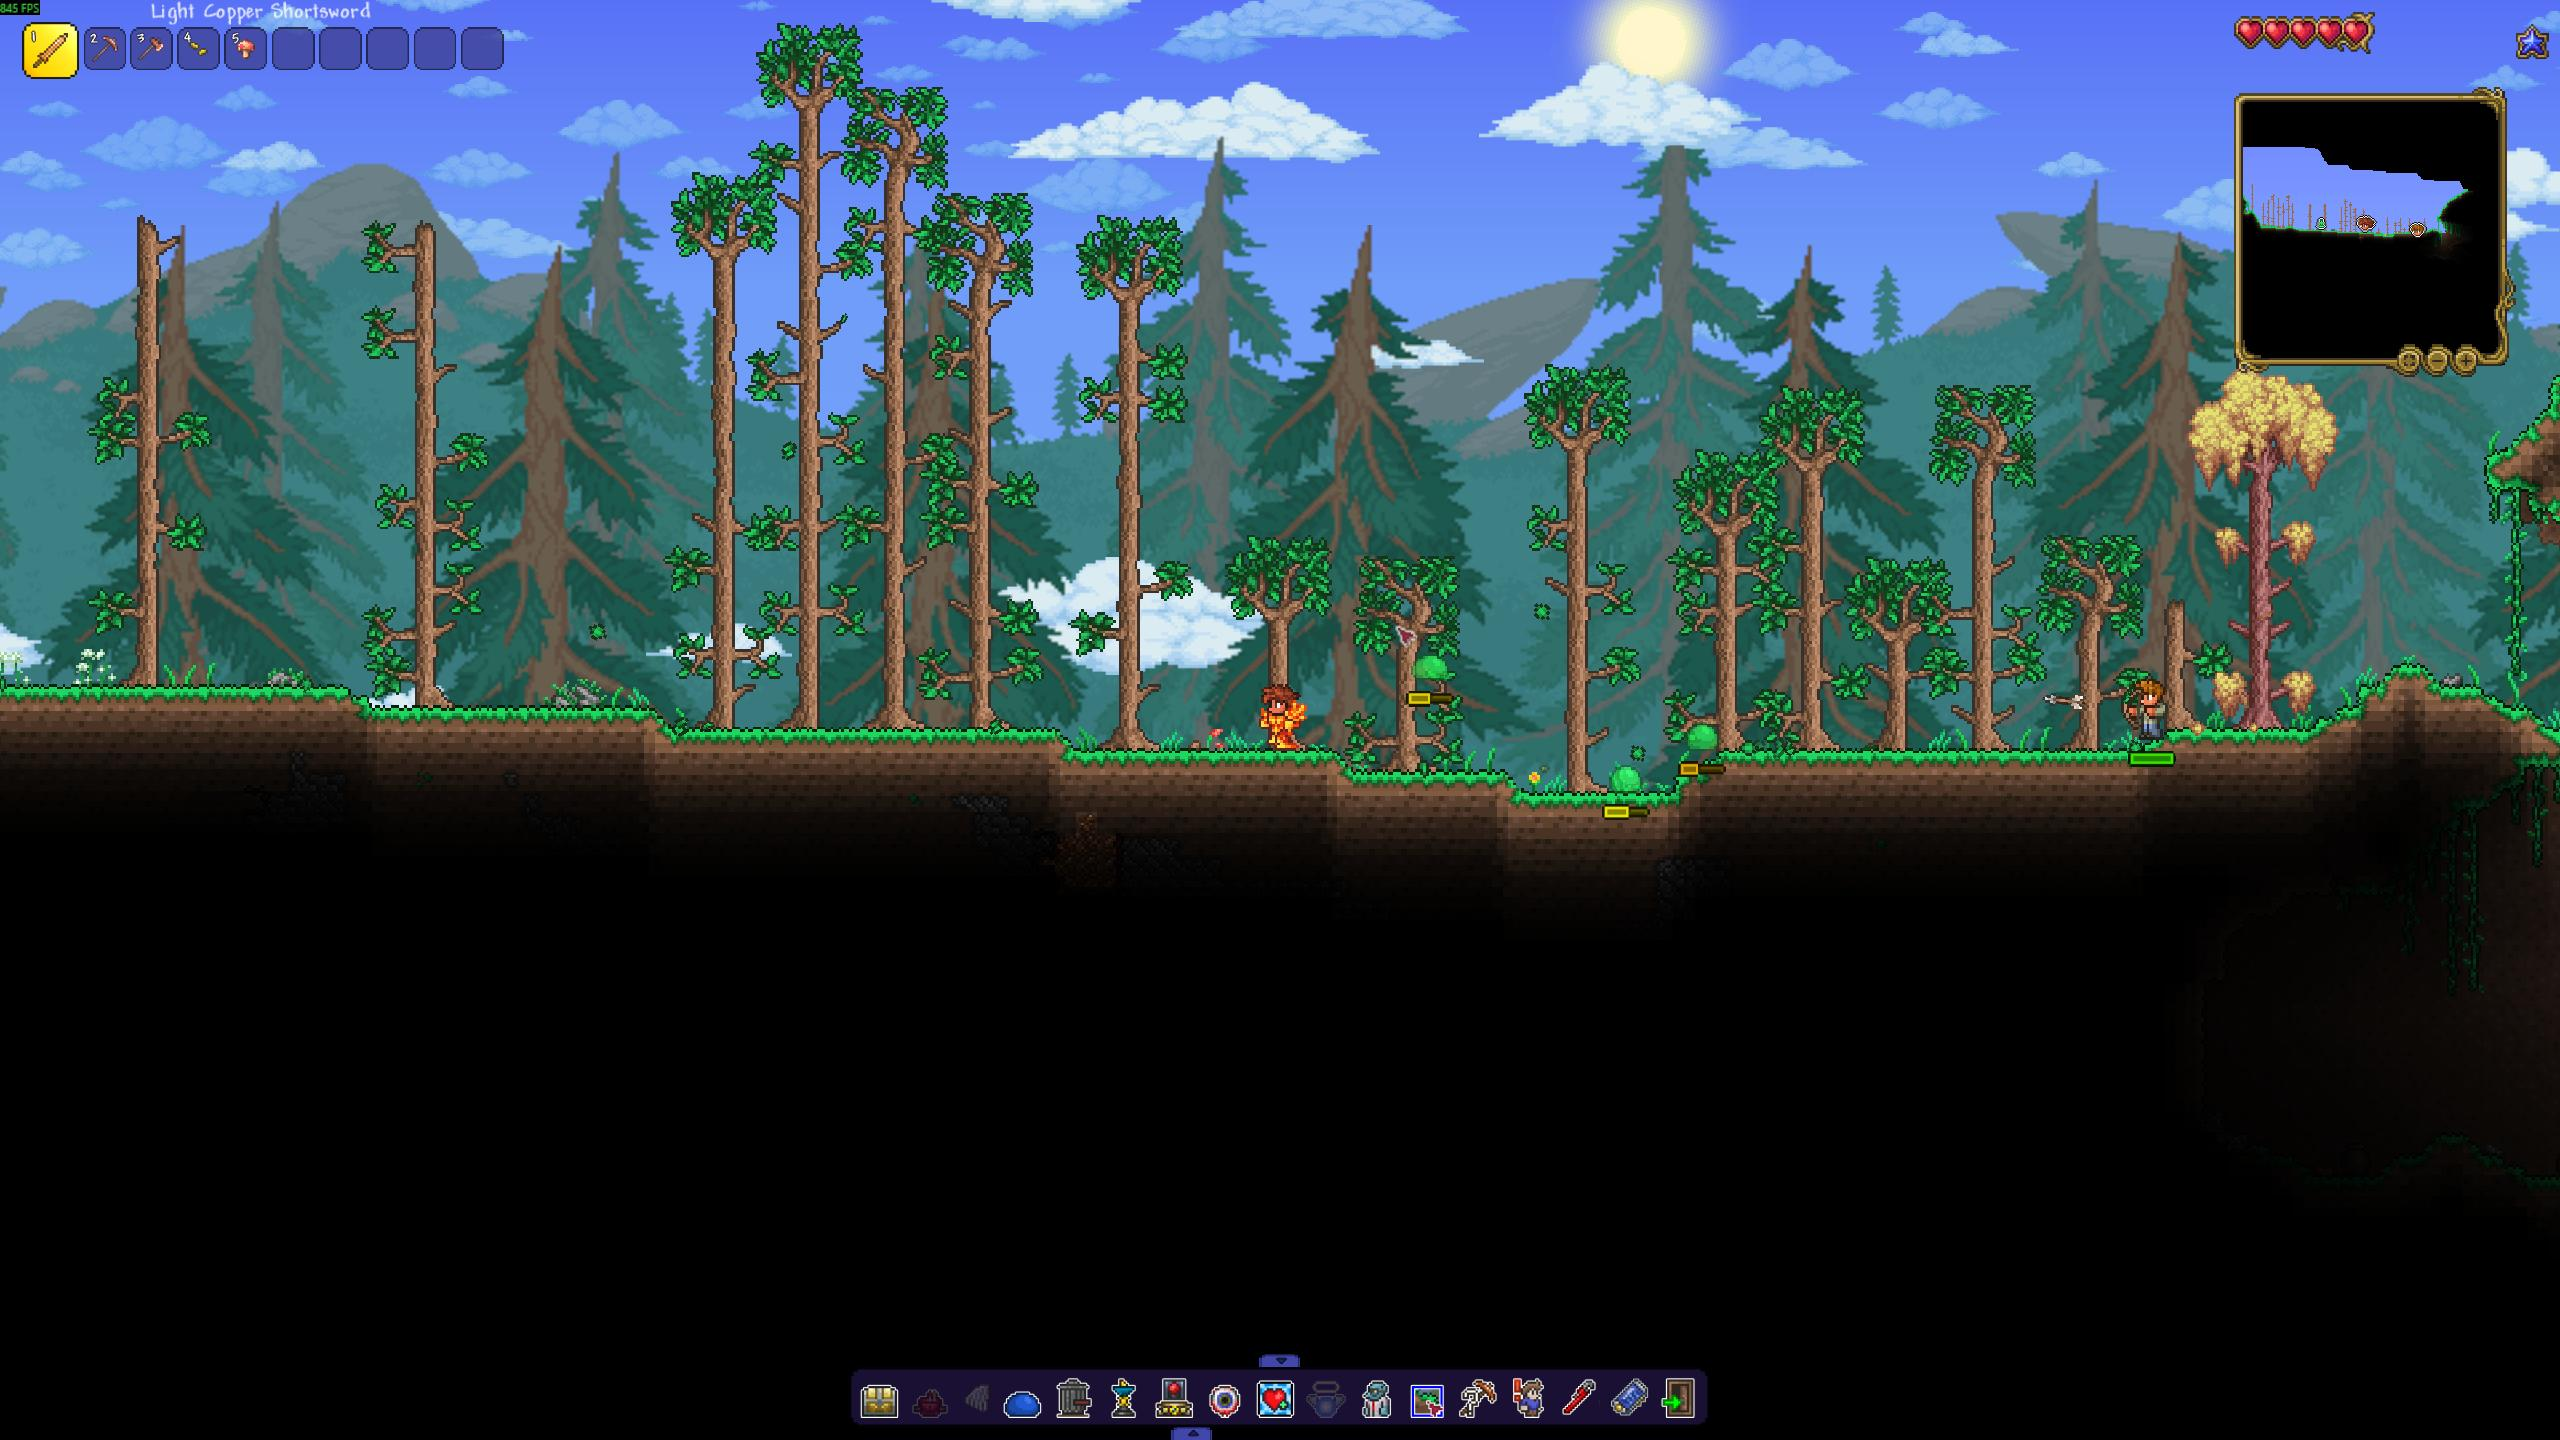Green Slime: (1605, 765, 1649, 796), (1684, 723, 1721, 758), (1408, 656, 1451, 682)
